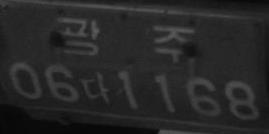0: (7, 61, 43, 100)
1: (112, 68, 142, 110), (149, 73, 178, 113)
6: (186, 76, 222, 118), (44, 64, 80, 102)
8: (224, 79, 260, 121)
광주_D: (56, 15, 195, 63)
다: (81, 71, 111, 104)
